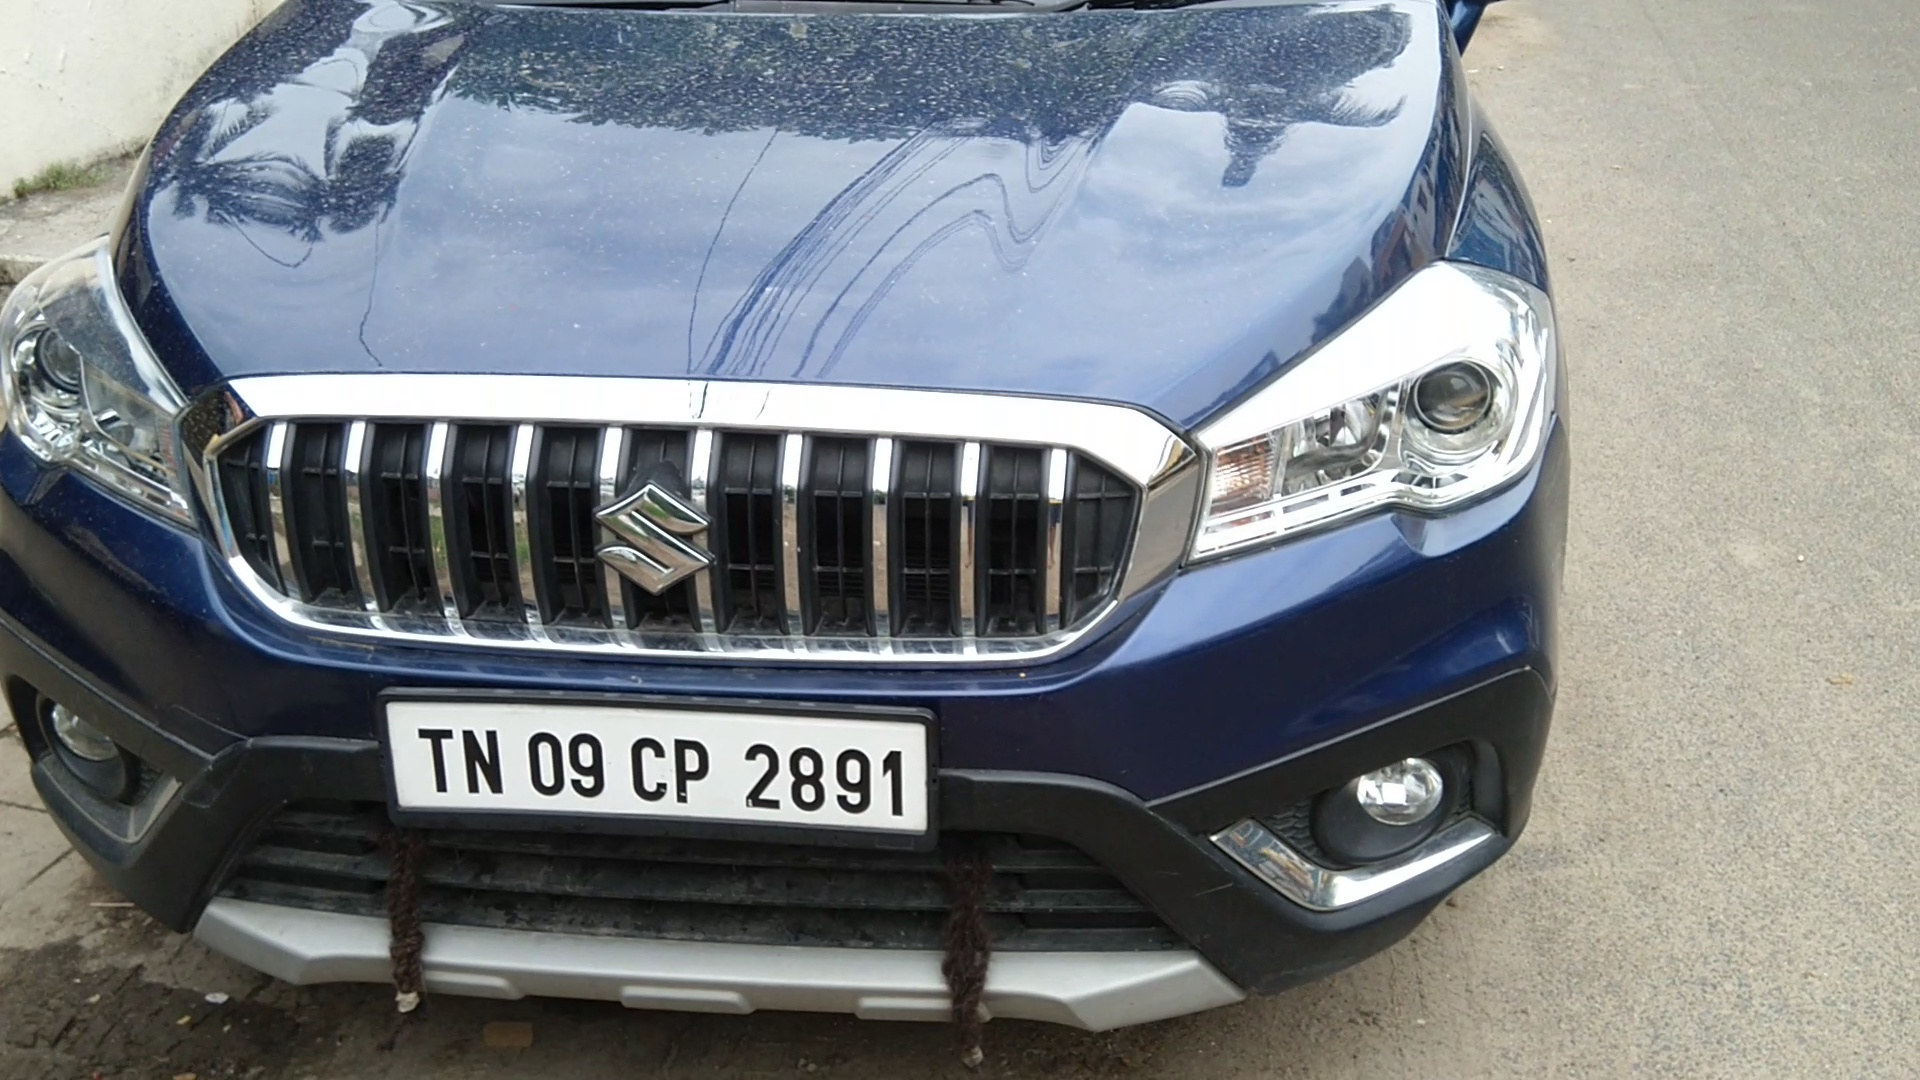front_grill: (182, 368, 1191, 676)
headlamp: (1200, 252, 1561, 587), (3, 231, 196, 541)
